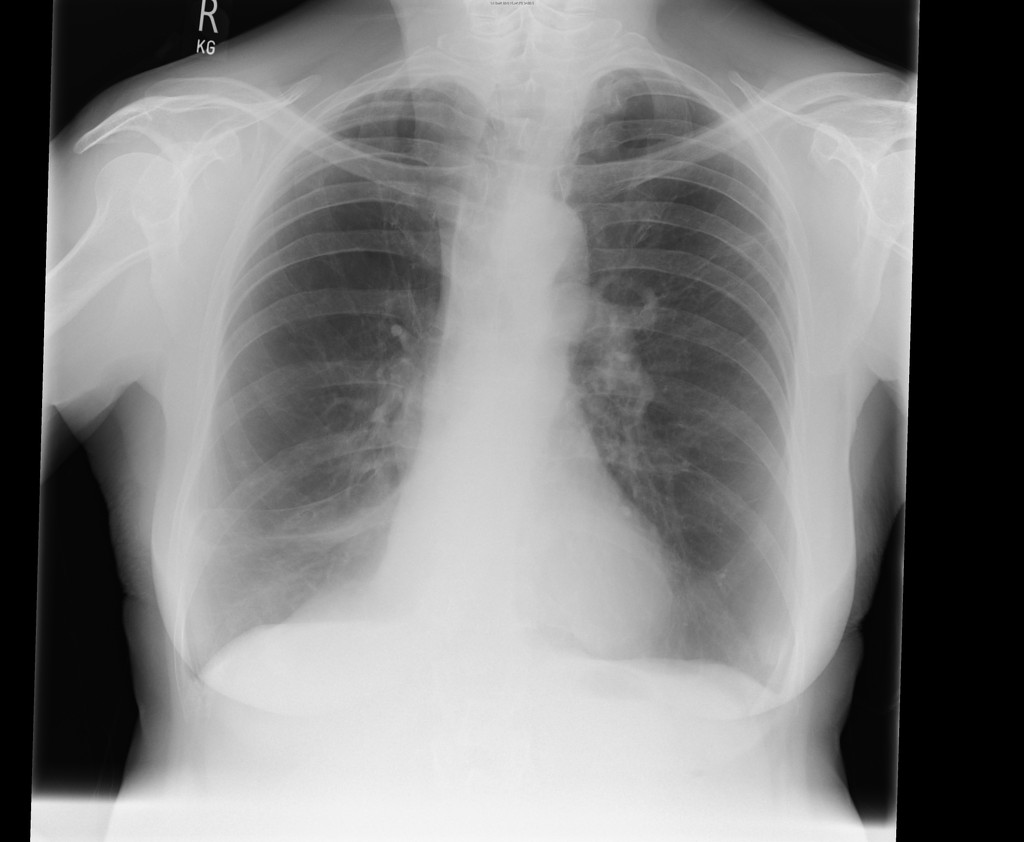cancer: (218, 225, 566, 518)
